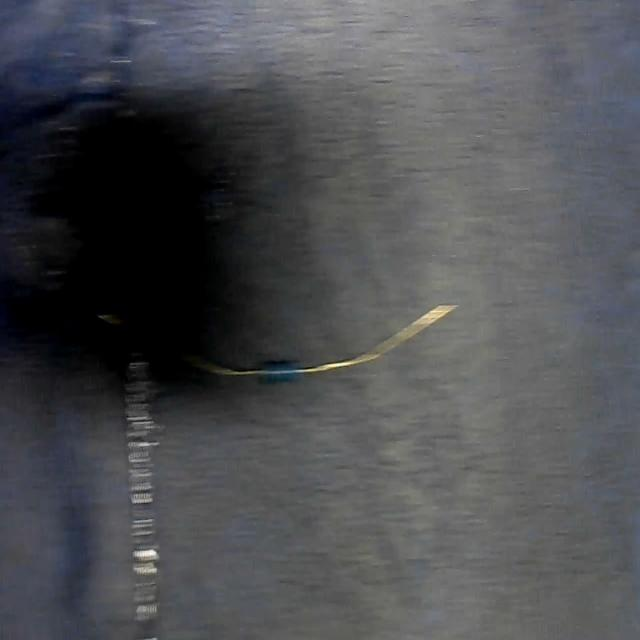resistor: (180, 342, 378, 391)
